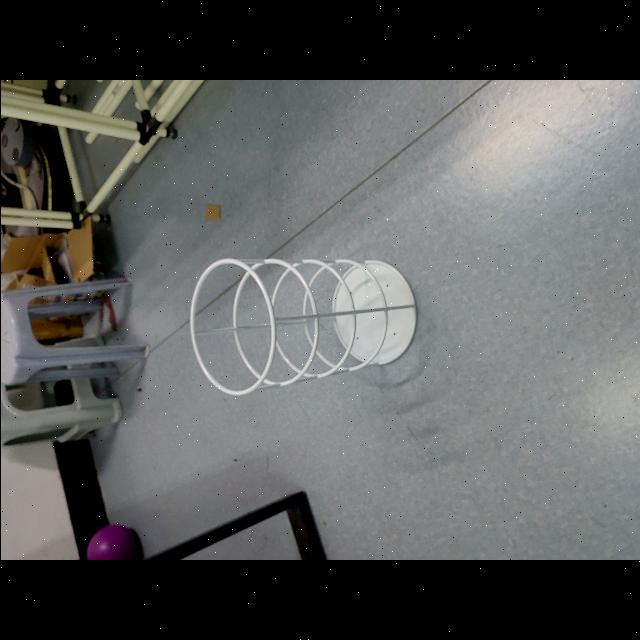S: (186, 252, 420, 401)
